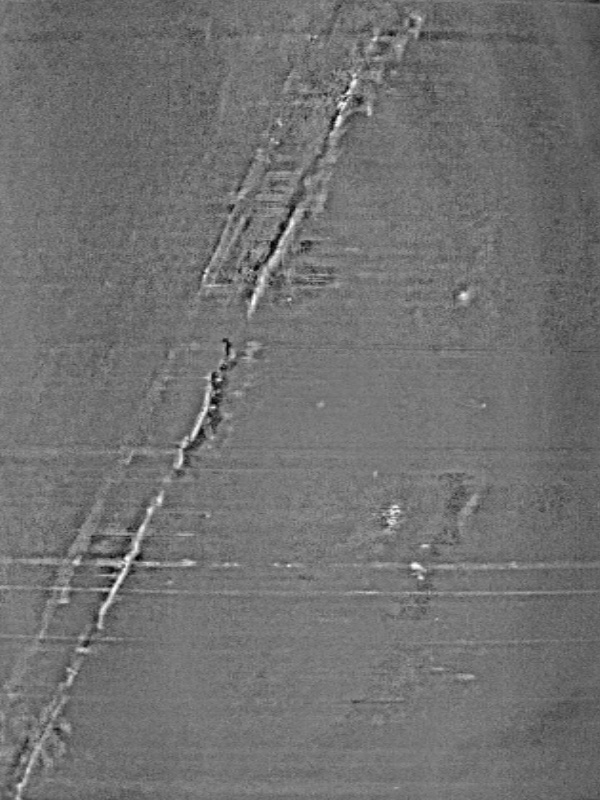splice_vulcanized: (2, 1, 418, 800)
